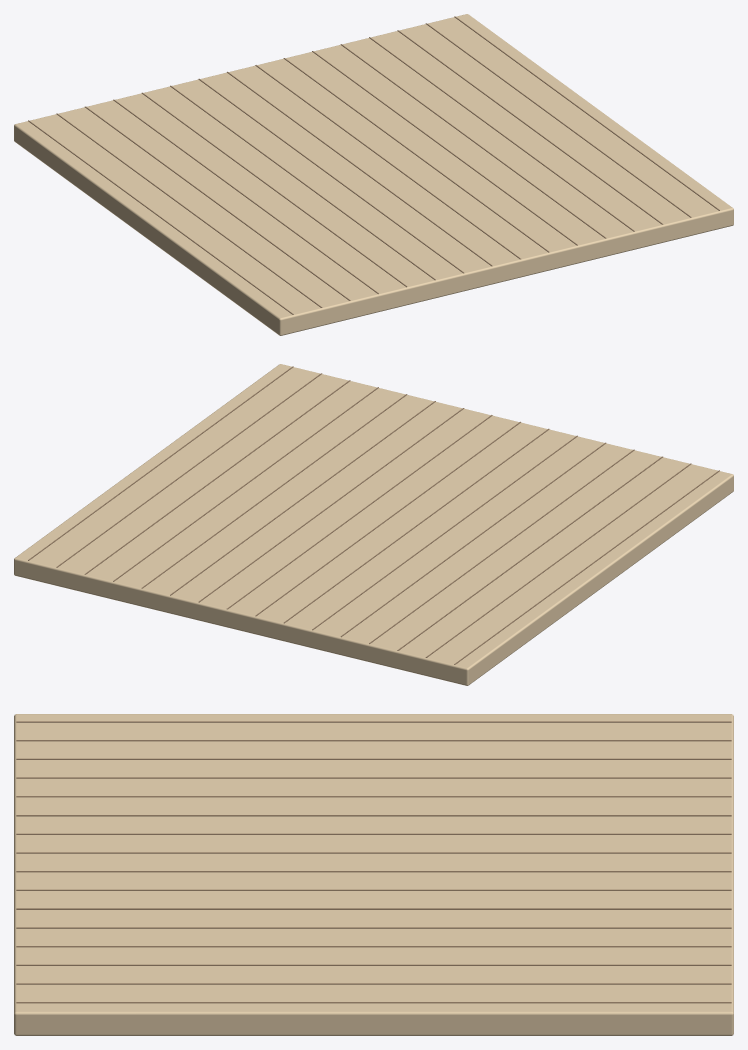
File: squash-club-and-racket-workshop-court-floor-section-a83e290d__29741.glb
3 views of the same model, one above another, from view 1: azimuth 30°, elevation 25°; view 2: azimuth 150°, elevation 25°; view 3: azimuth 270°, elevation 25° (orthographic). The views are drawn at different scales.
Parts seen in each view (by area): view 1: court-floor-section; view 2: court-floor-section; view 3: court-floor-section.
Part boxes in pixels (x1,y1,x2,y2): court-floor-section: (14, 14, 733, 335); court-floor-section: (14, 364, 733, 685); court-floor-section: (14, 714, 733, 1035).
Bounding box in the file's own units: 3.2 × 0.1249 × 3.25.
